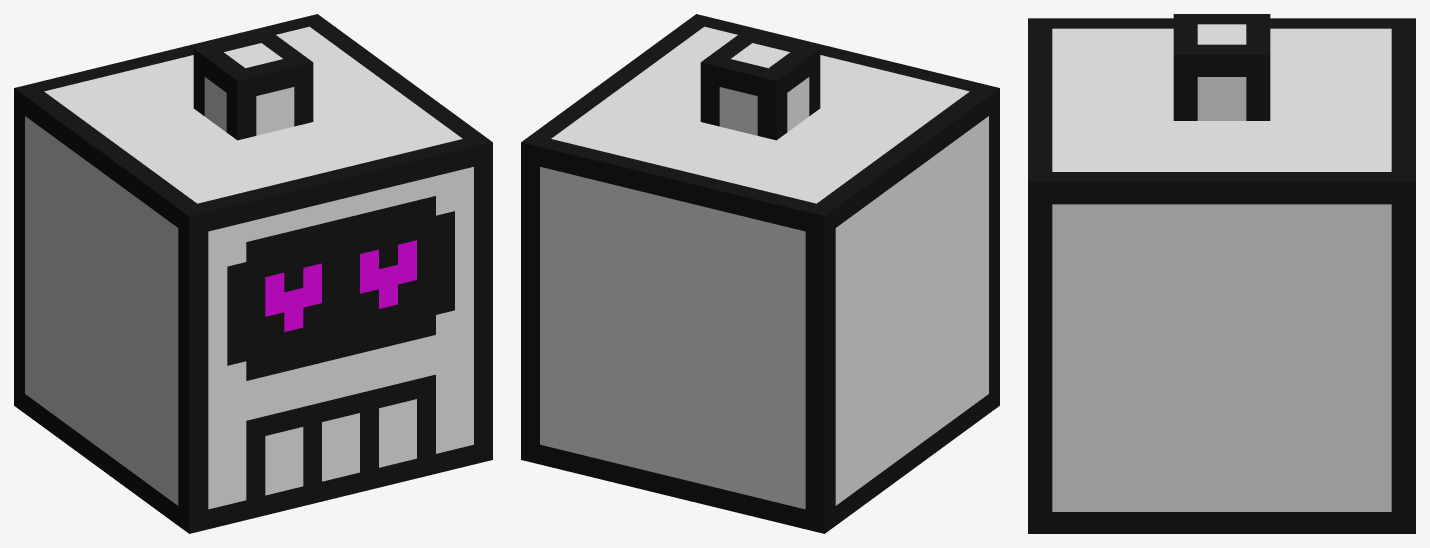
The model's file is teterose.obj.
3 renders of one model, left to right at view 1: azimuth 30°, elevation 25°; view 2: azimuth 150°, elevation 25°; view 3: azimuth 270°, elevation 25°, orthographic. The views are drawn at different scales.
Size of the model in its own units: 1.6 by 1.9 by 1.6.
1 material, 1 textured.
